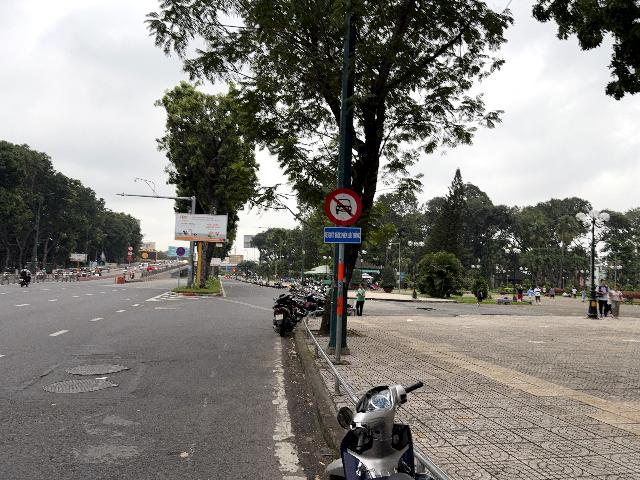cam-o-to: (324, 188, 362, 225)
